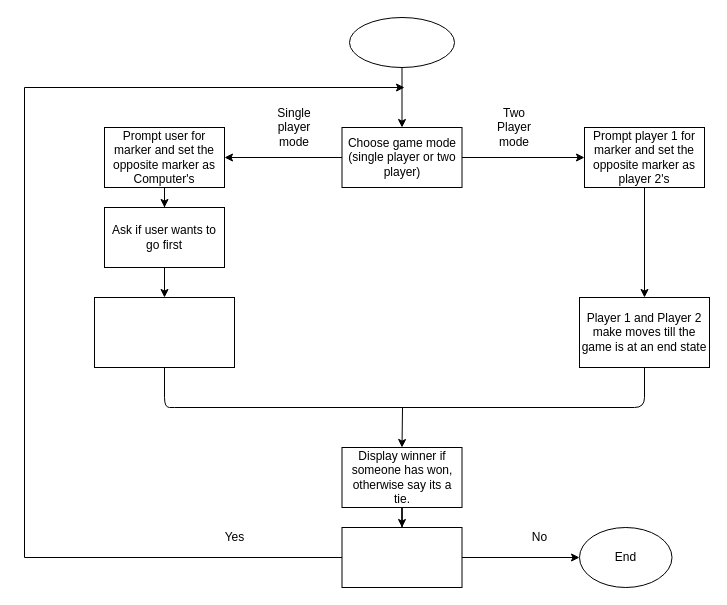
Some shapes in this 727 by 605 pixel diagram are drawn without their labels. Here are the shapes that lost their labels. From the top down, the centre of each, then its label:
At (x=401, y=42): "Start".
At (x=164, y=332): "User and AI make moves till the game is at an end state".
At (x=401, y=557): "Ask if user wants to play again".
